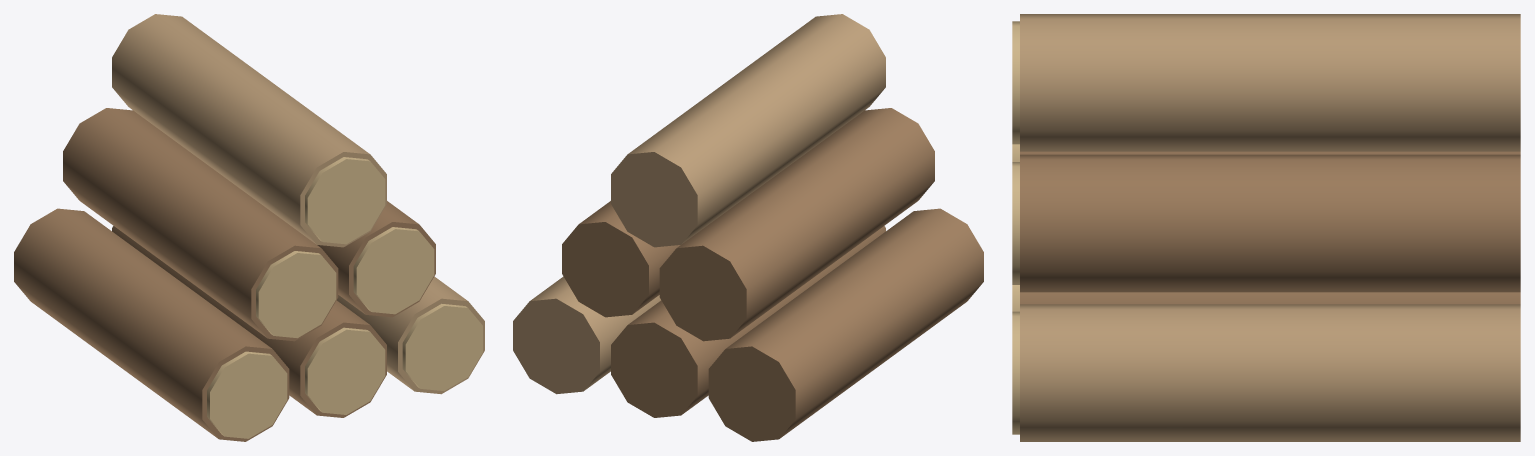
File: log_pile.glb
3 renders of one model, left to right at view 1: azimuth 30°, elevation 25°; view 2: azimuth 150°, elevation 25°; view 3: azimuth 270°, elevation 25°, orthographic. The views are drawn at different scales.
Parts seen in each view (by area): view 1: mesh; view 2: mesh; view 3: mesh.
Boxes of the visible parts, x1,y1,x2,y2 form: mesh: (14, 14, 484, 441); mesh: (513, 14, 983, 441); mesh: (1012, 14, 1520, 441).
Bounding box in the file's own units: 0.8663 × 0.78 × 1.01.
